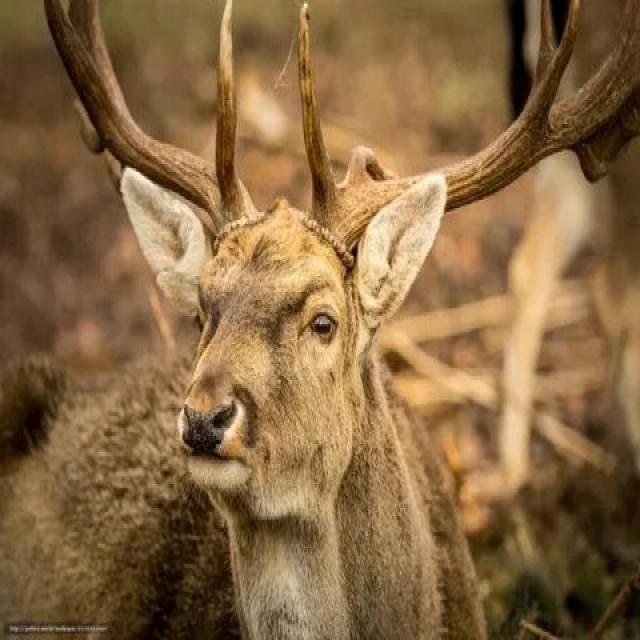deer: (125, 45, 505, 640)
